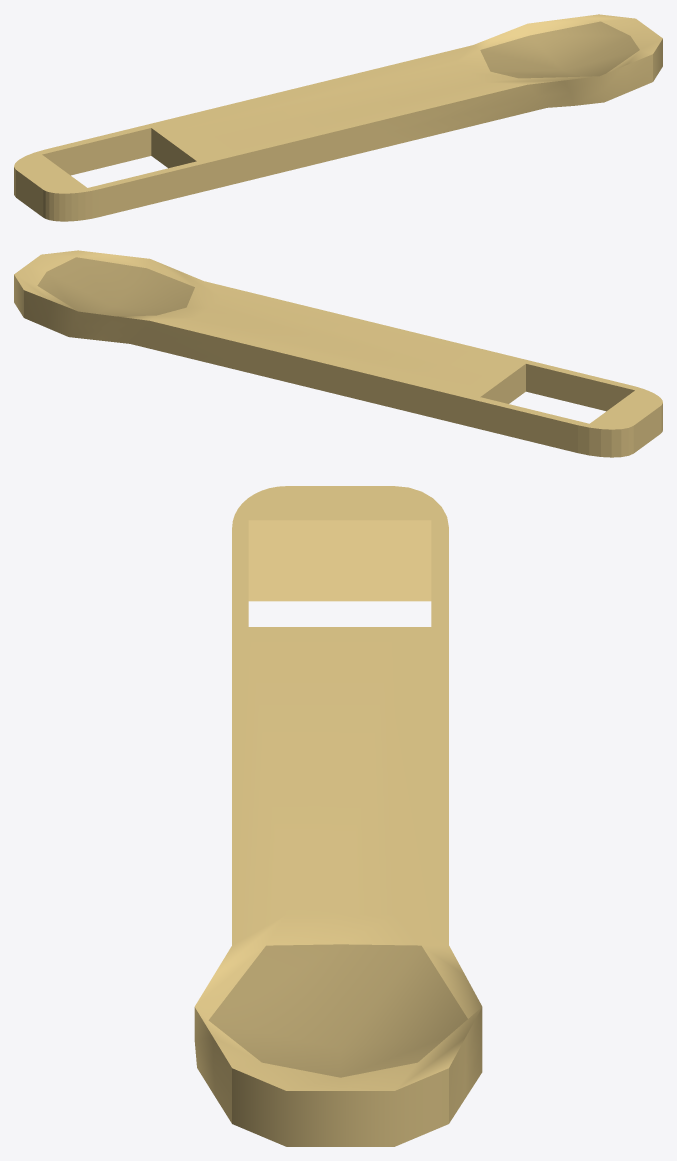
The model's file is StapicSkracen1.fbx.
The picture shows the model from 3 angles, top to bottom: view 1: azimuth 30°, elevation 25°; view 2: azimuth 150°, elevation 25°; view 3: azimuth 270°, elevation 25°; orthographic projection. The views are drawn at different scales.
Visible parts, largest first — view 1: Cube.106; view 2: Cube.106; view 3: Cube.106.
Boxes of the visible parts, <box> form: Cube.106: <box>14,14,662,221</box>; Cube.106: <box>14,250,662,457</box>; Cube.106: <box>194,486,482,1146</box>.
Size of the model in its own units: 0.9755 by 0.042 by 0.1962.
